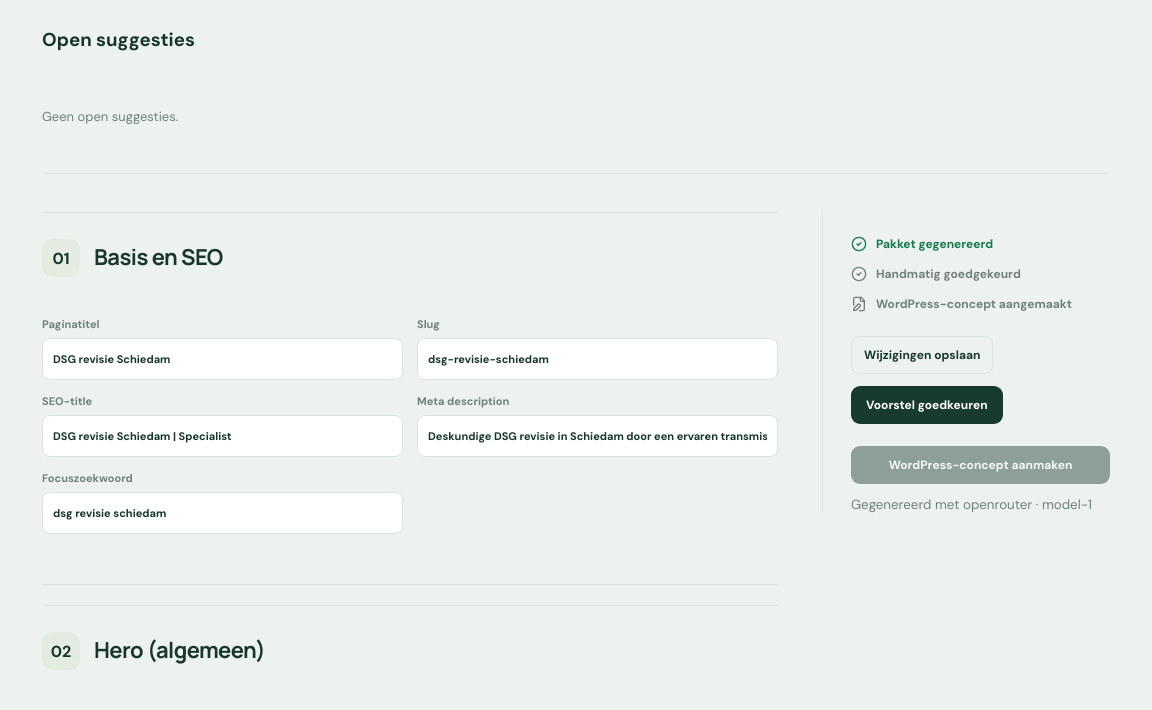
Scenario: PagePackageReview › clears stale monitoring while a saved package refreshes
(page scrolled)
Click the button "Wijzigingen opslaan" at (922, 355), box [851,336,993,374]
(page scrolled)
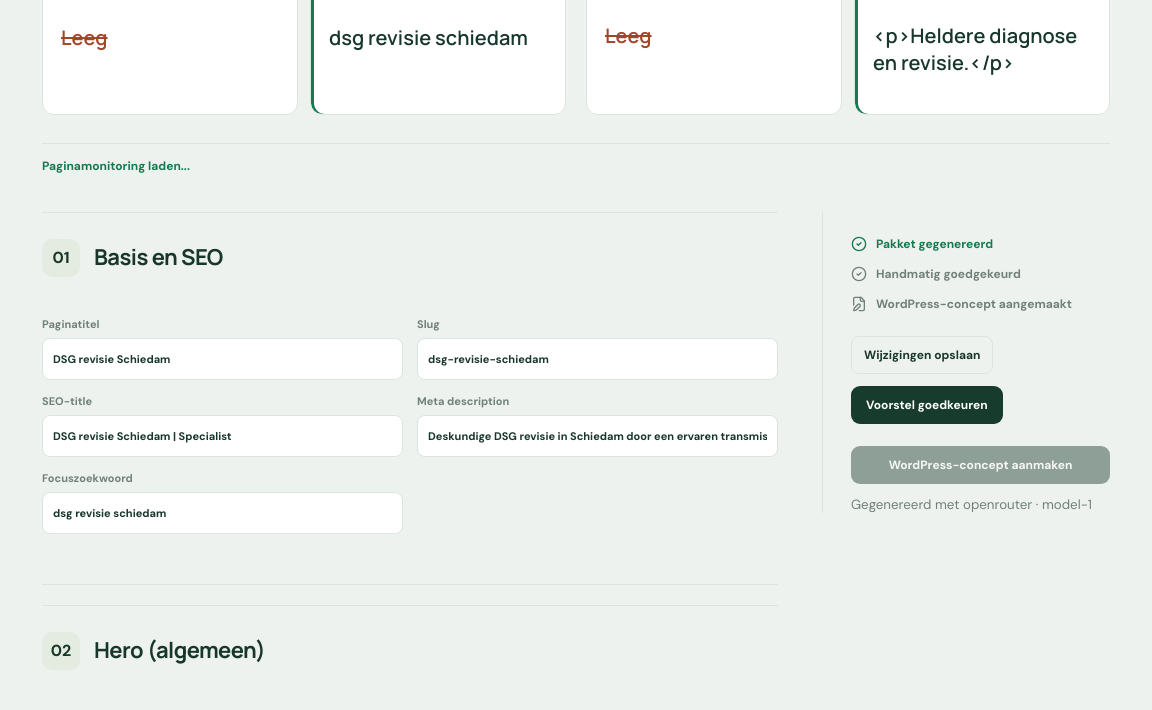
Expected: the message "monitoring laden" is shown, [42,158,190,174]
